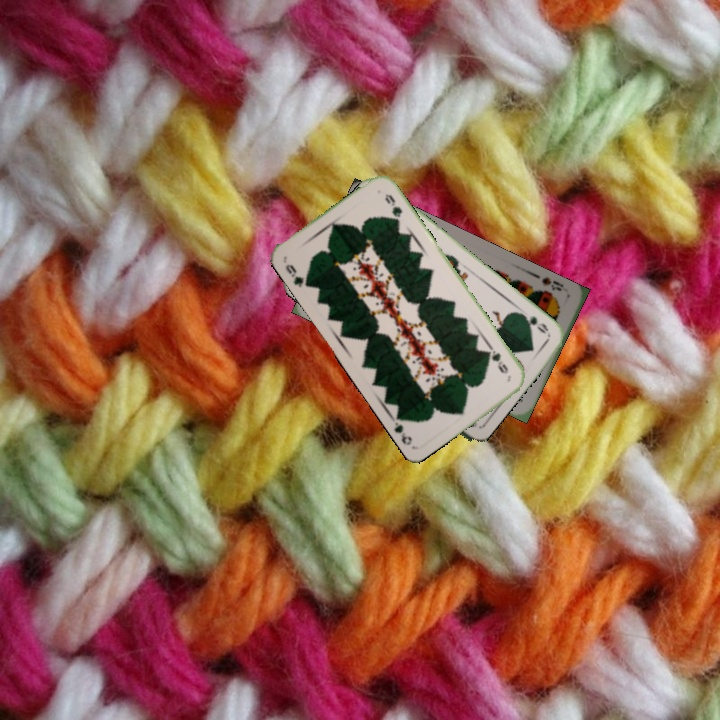G9: (281, 260, 312, 290), (483, 343, 511, 376)
GO: (516, 309, 551, 336)
S8: (538, 273, 566, 294)
